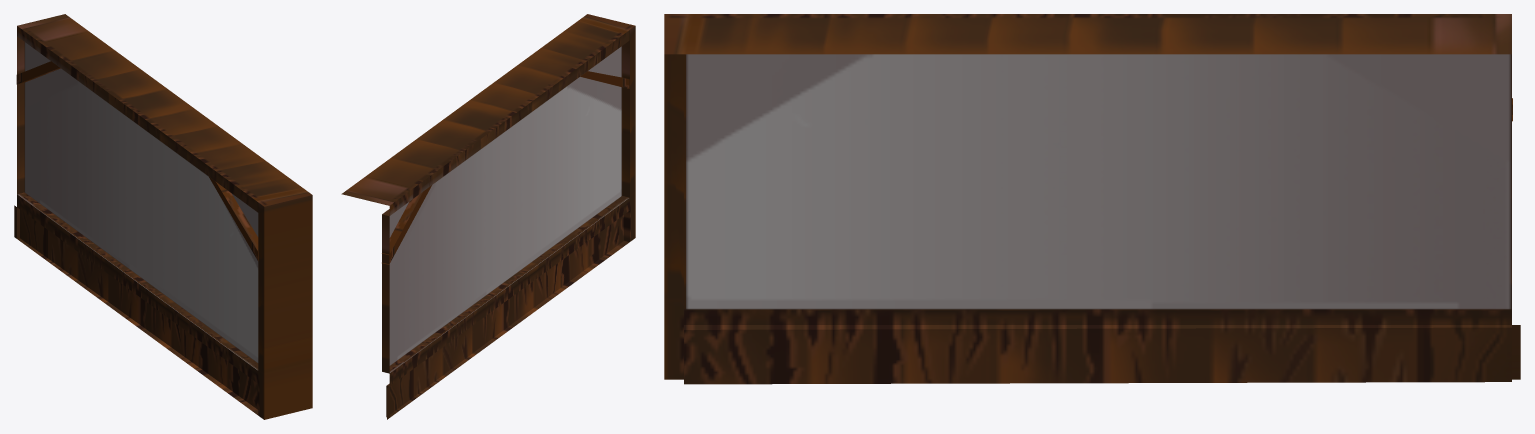
File: wall1-2.FBX
The picture shows the model from 3 angles, left to right: view 1: azimuth 30°, elevation 25°; view 2: azimuth 150°, elevation 25°; view 3: azimuth 270°, elevation 25°; orthographic projection. The views are drawn at different scales.
Parts seen in each view (by area): view 1: Object069; view 2: Object069; view 3: Object069.
Part boxes in pixels (bbox=[...]): Object069: bbox=[14, 14, 312, 419]; Object069: bbox=[341, 14, 635, 419]; Object069: bbox=[664, 14, 1520, 384].
Bounding box in the file's own units: 113 × 476 × 1010.
